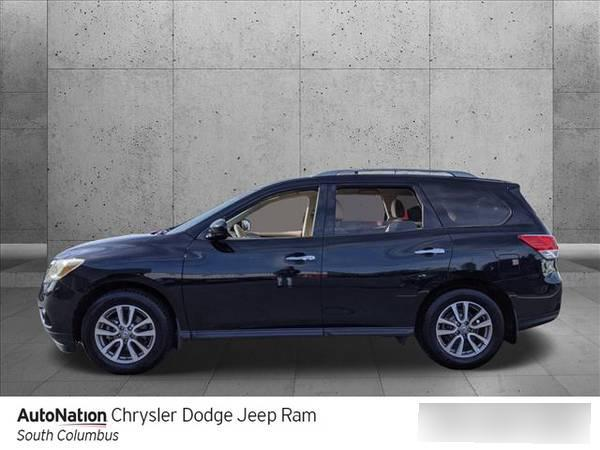Front_Bumper: (39, 277, 82, 355)
Front_Fender: (57, 237, 193, 338)
Front_Left_Door: (184, 238, 326, 336)
Front_Left_Window: (195, 182, 330, 238)
Left_Headlight: (41, 262, 81, 287)
Left_Taillight: (517, 229, 562, 260)
Rear_Bumper: (500, 270, 565, 331)
Rear_Fender: (422, 180, 558, 278)
Rear_Left_Door: (323, 228, 452, 332)
Rear_Left_Window: (326, 183, 452, 240)
Roof: (180, 166, 545, 236)
Wheel: (76, 290, 168, 375), (421, 282, 509, 367)
